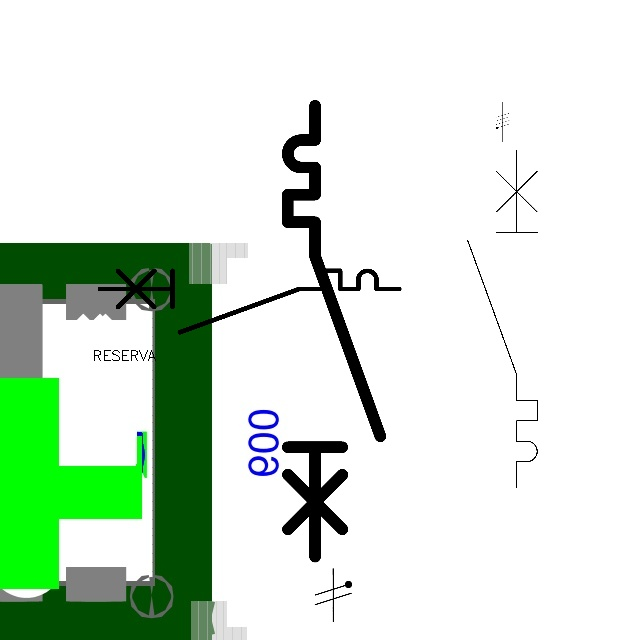interruptor_termomagnetico: (276, 94, 392, 568), (459, 142, 546, 496), (92, 263, 407, 340)
